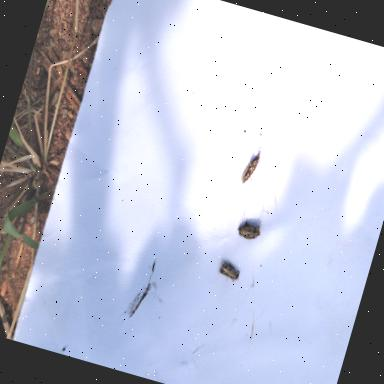pbw: (240, 142, 266, 187), (235, 214, 264, 244), (216, 258, 244, 286)
